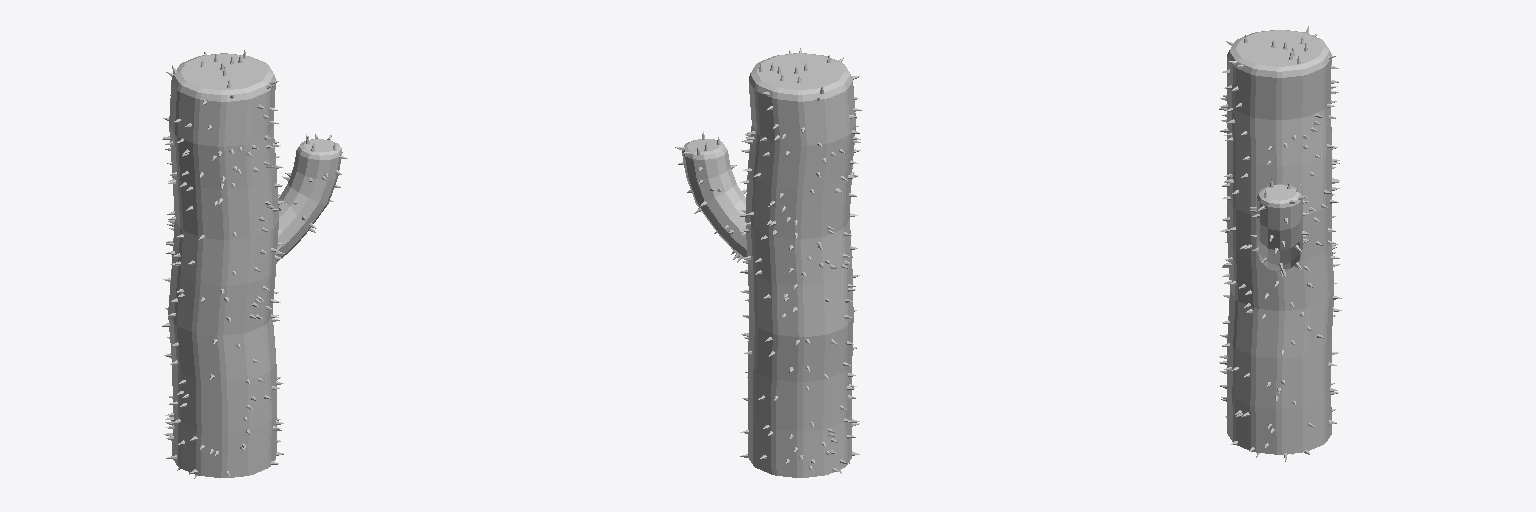
File: cactus_big_1.obj
3 renders of one model, left to right at view 1: azimuth 30°, elevation 25°; view 2: azimuth 150°, elevation 25°; view 3: azimuth 270°, elevation 25°, orthographic.
Parts seen in each view (by area): view 1: cactus_big_1; view 2: cactus_big_1; view 3: cactus_big_1.
Boxes of the visible parts, x1,y1,x2,y2 form: cactus_big_1: [162, 50, 347, 478]; cactus_big_1: [675, 48, 861, 477]; cactus_big_1: [1219, 26, 1341, 461].
Bounding box in the file's own units: 2.64 × 5.82 × 1.63.